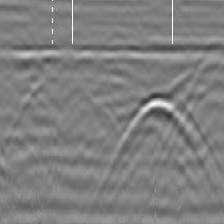Utility: (94, 90, 224, 209)
